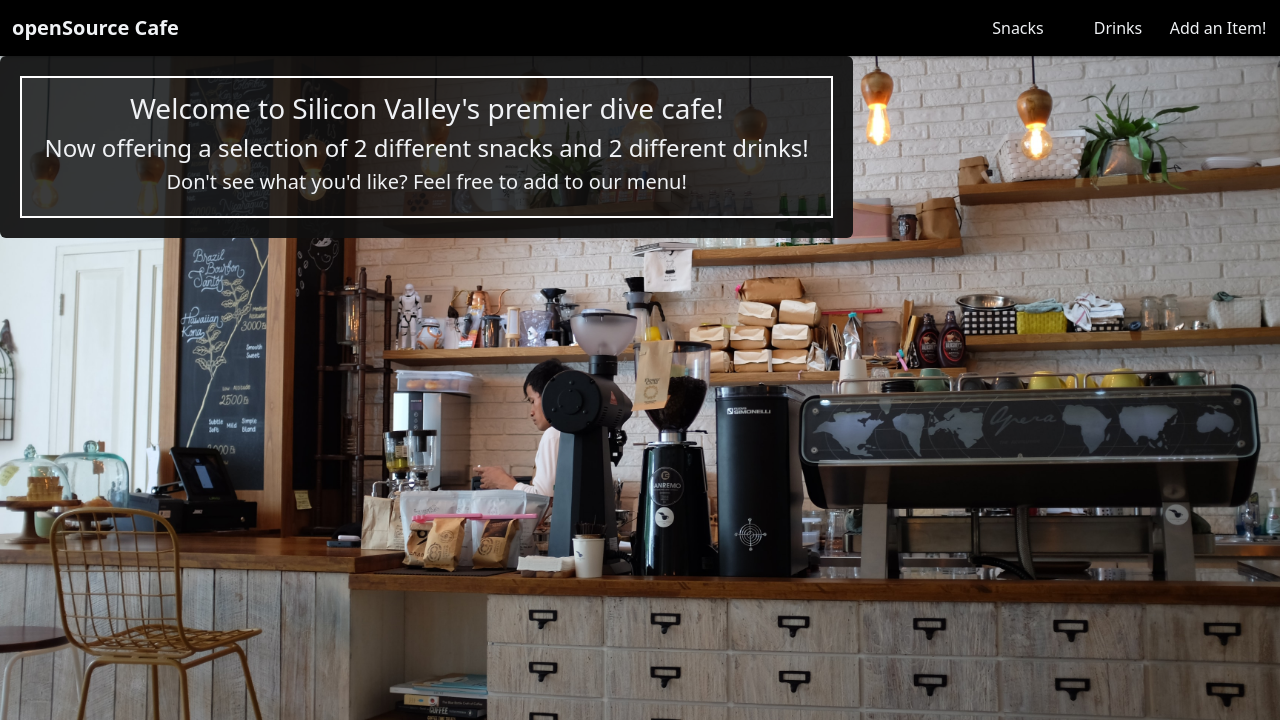
Test: submits new snack successfully with valid inputs
Click the link with class "NavLink-new-item" at (1218, 28), box [1170, 17, 1266, 39]
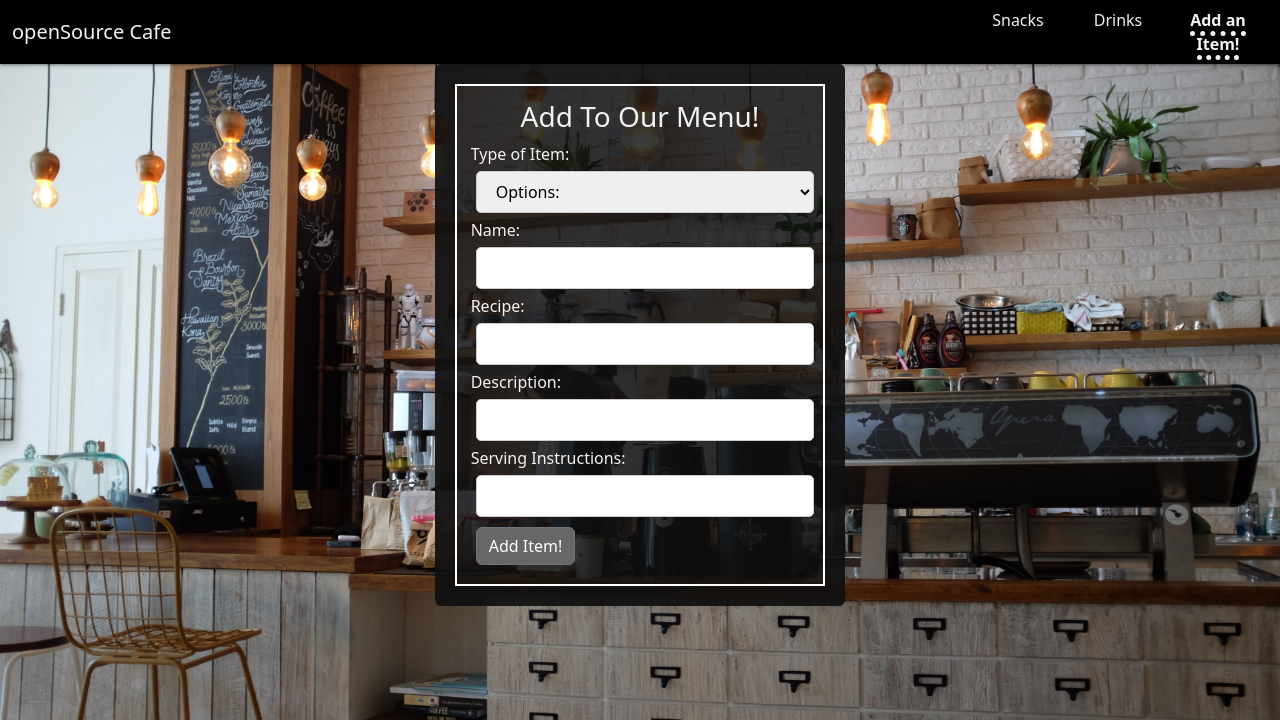
Select "Snack" in the dropdown with class "NewItemForm-type" at (645, 192), box [476, 171, 814, 213]
Type "New Snack!" into the field with id "NewItemForm-name" at (645, 268), box [476, 247, 814, 289]
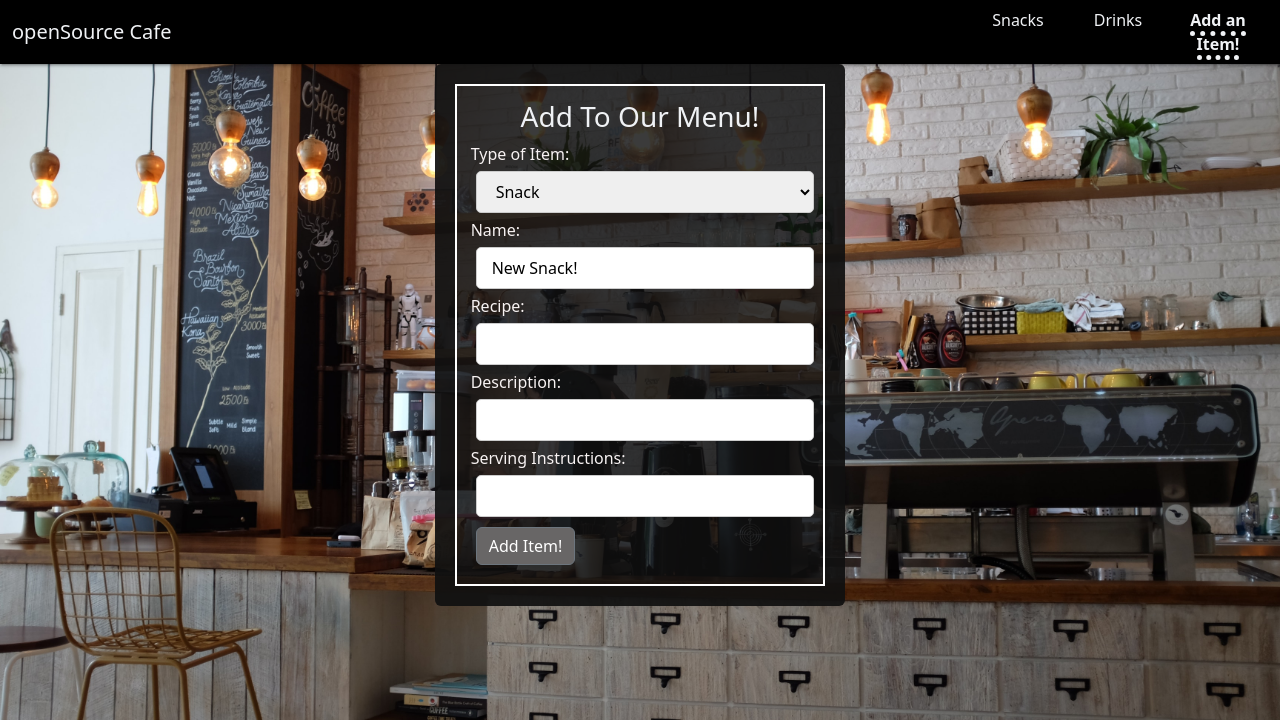
Type "Just have fun out there." into the field with id "NewItemForm-recipe" at (645, 344), box [476, 323, 814, 365]
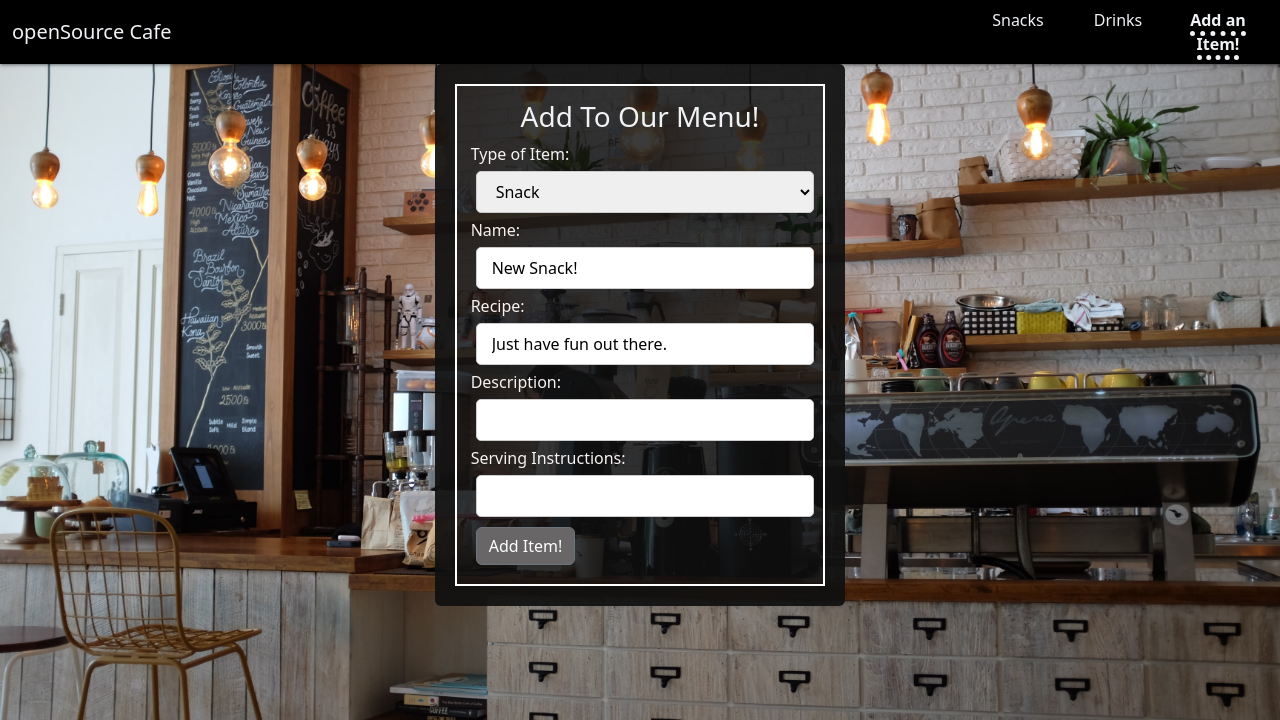
Type "New snack description." into the field with id "NewItemForm-description" at (645, 420), box [476, 399, 814, 441]
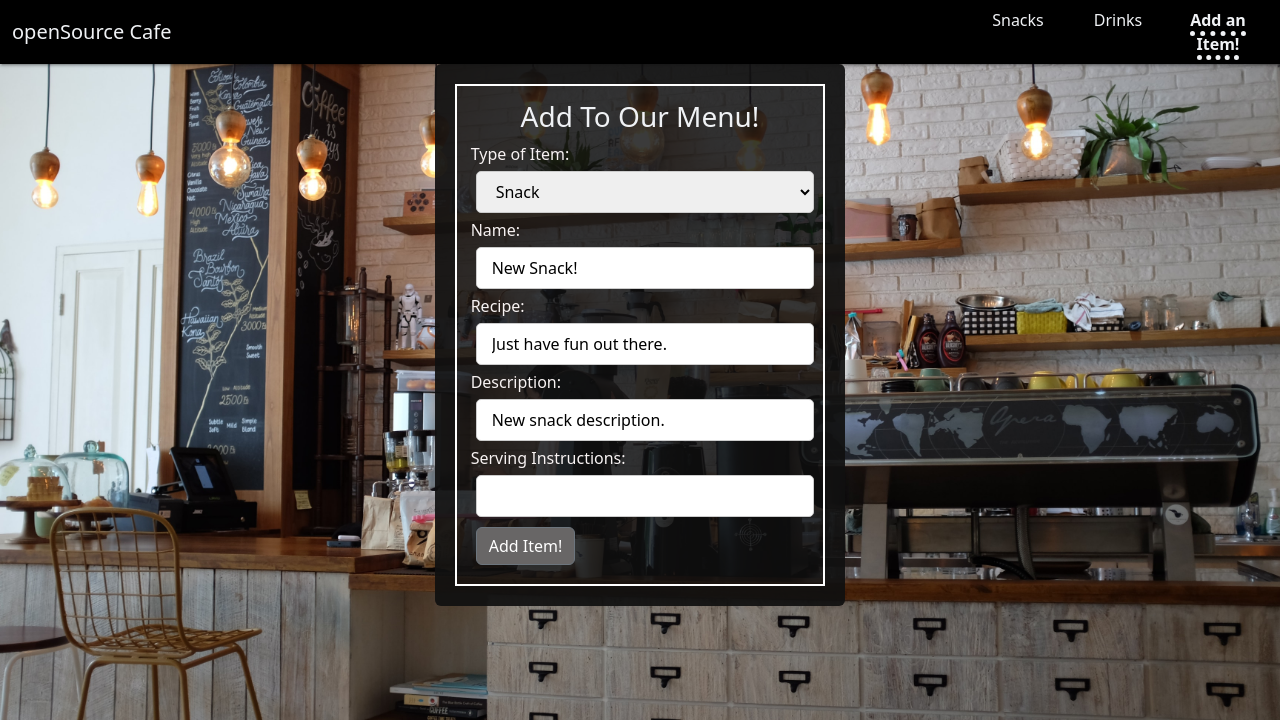
Type "All day" into the field with id "NewItemForm-serving-instructions" at (645, 496), box [476, 475, 814, 517]
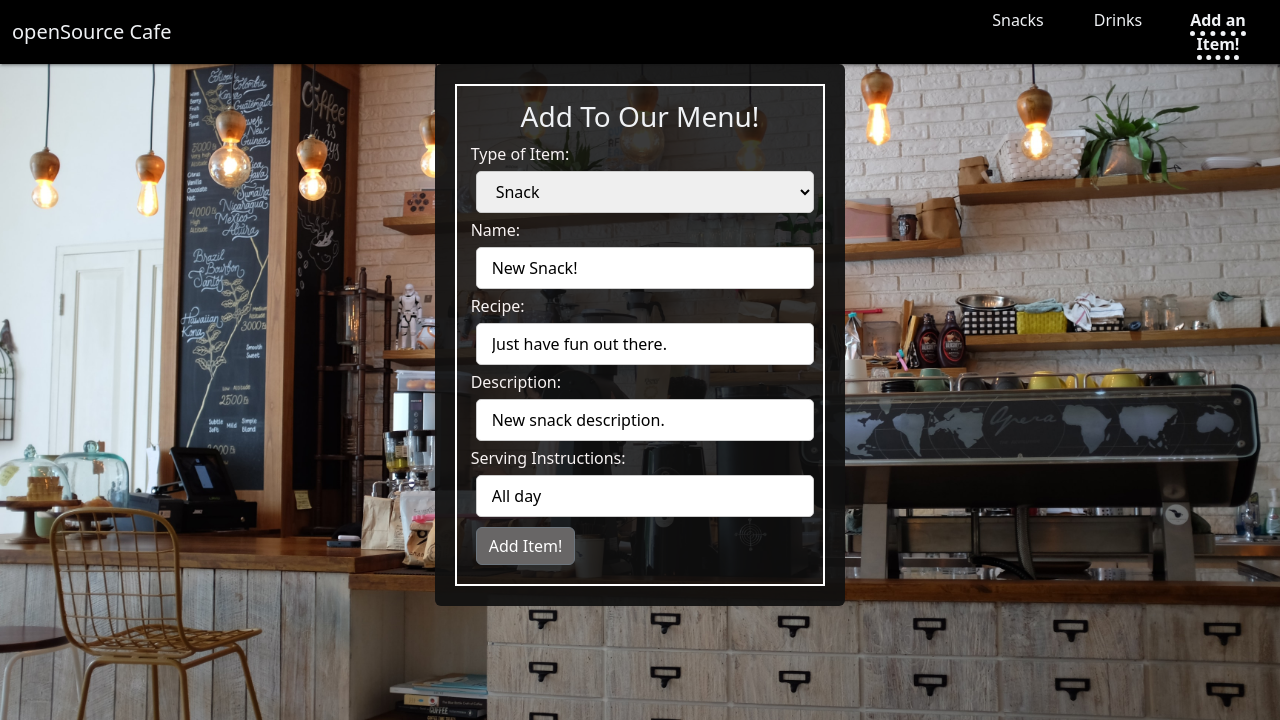
Submit the form with class "NewItemForm-form", box [471, 142, 809, 570]
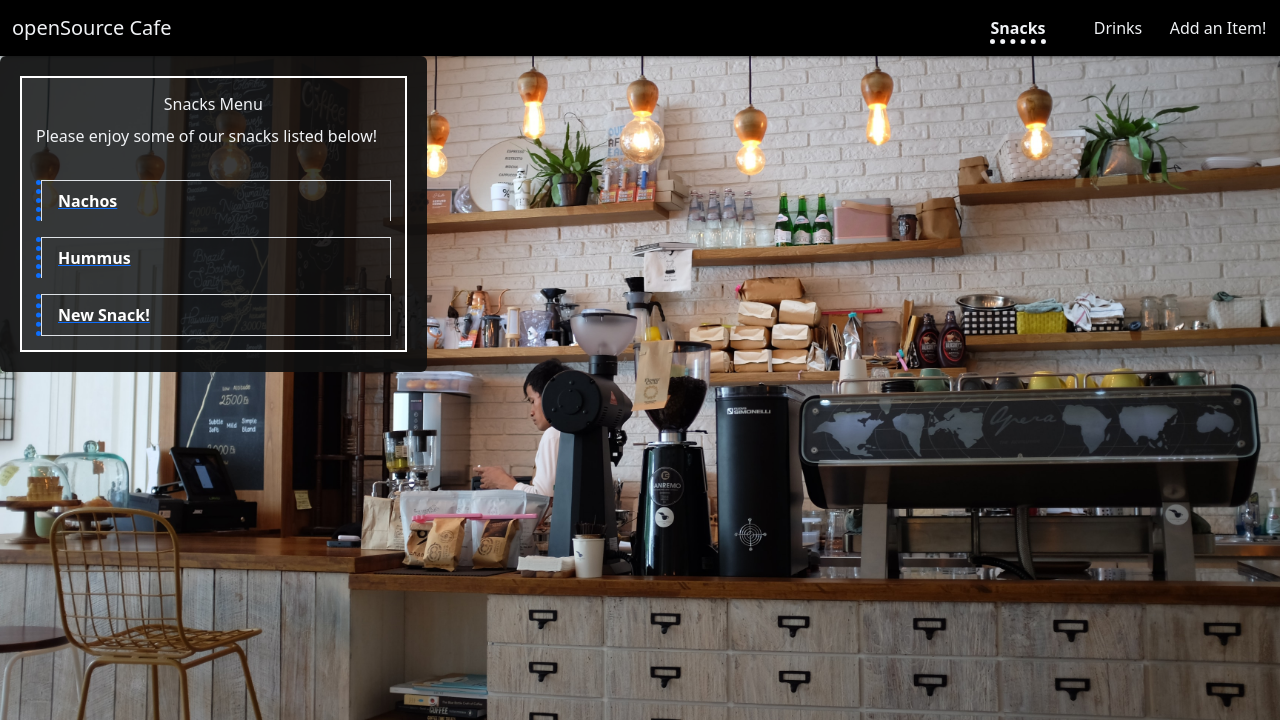
Expected: the text "Please enjoy some of our snacks listed below!" is shown, [36, 124, 391, 148]
Expected: the text "New Snack!" is shown, [41, 294, 391, 336]
